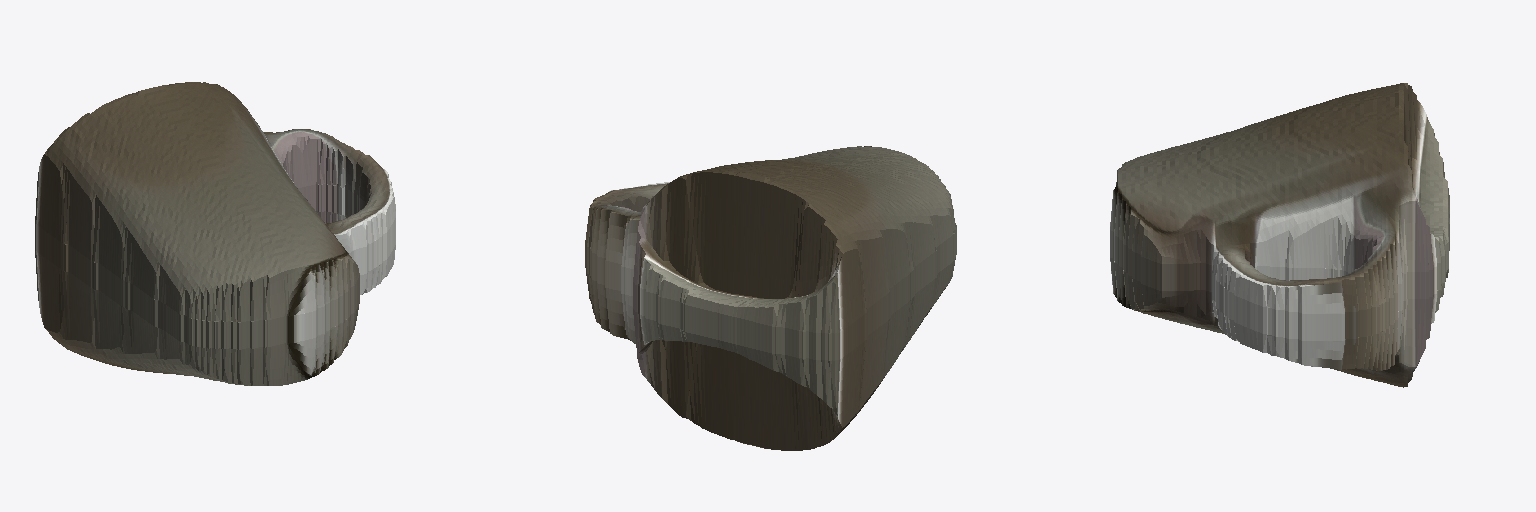
3 renders of one model, left to right at view 1: azimuth 30°, elevation 25°; view 2: azimuth 150°, elevation 25°; view 3: azimuth 270°, elevation 25°, orthographic.
Parts seen in each view (by area): view 1: Grid; view 2: Grid; view 3: Grid.
Part boxes in pixels (bbox=[...]): Grid: bbox=[35, 82, 395, 385]; Grid: bbox=[585, 146, 956, 450]; Grid: bbox=[1110, 83, 1449, 387].
Size of the model in its own units: 1.58 by 1.4 by 1.59.
Materials: 2 (1 with a texture image).